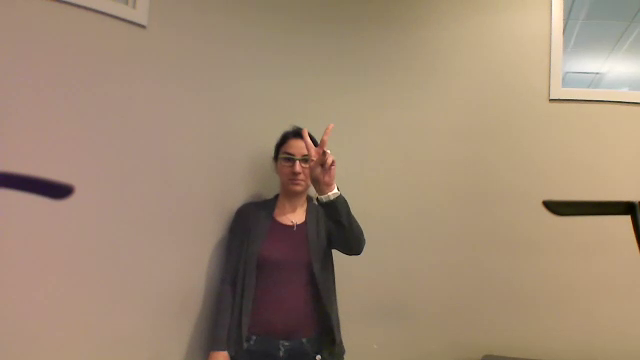peace: (293, 116, 345, 190)
